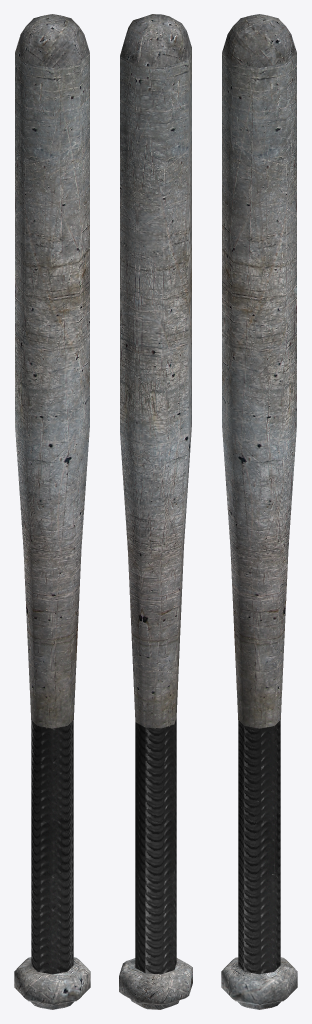
The model's file is BaseballBat_Raw_Metal(Grime).fbx.
3 renders of one model, left to right at view 1: azimuth 90°, elevation 25°; view 2: azimuth 150°, elevation 25°; view 3: azimuth 270°, elevation 25°, orthographic.
Visible parts, largest first — view 1: BaseballBat_Raw_Metal(Grime); view 2: BaseballBat_Raw_Metal(Grime); view 3: BaseballBat_Raw_Metal(Grime).
Boxes of the visible parts, left/top/right/bottom form: BaseballBat_Raw_Metal(Grime): left=14, top=14, right=90, bottom=1009; BaseballBat_Raw_Metal(Grime): left=119, top=14, right=192, bottom=1009; BaseballBat_Raw_Metal(Grime): left=221, top=14, right=297, bottom=1009.
Size of the model in its own units: 5.92 by 84.03 by 5.92.
